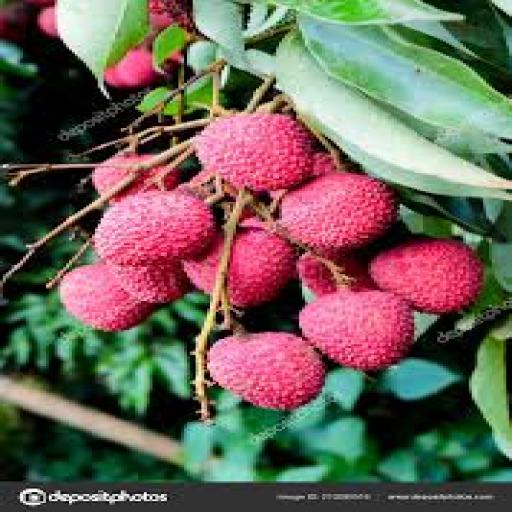lychee: (300, 291, 414, 371), (208, 332, 325, 409), (196, 114, 313, 191), (95, 192, 215, 266), (280, 174, 396, 250), (372, 238, 483, 313), (61, 264, 155, 331), (228, 228, 296, 308), (297, 251, 376, 295), (110, 262, 192, 302), (110, 166, 178, 201), (104, 47, 161, 88), (150, 0, 192, 30), (38, 6, 60, 37)
